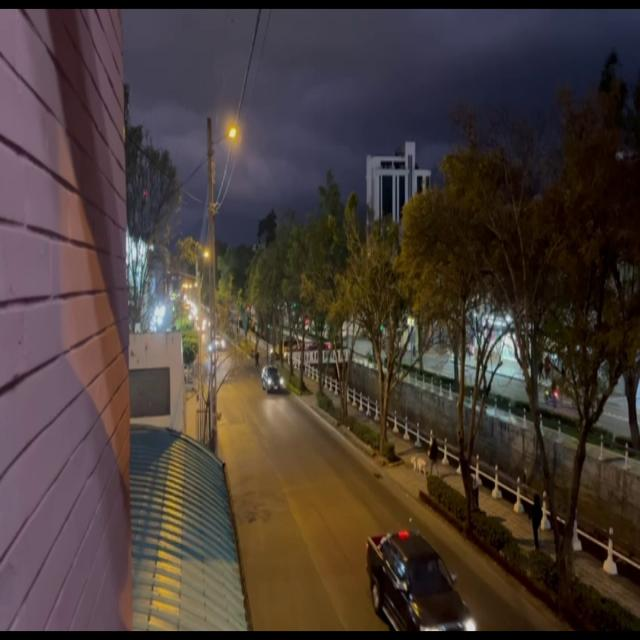CMT: (370, 533, 477, 637)
SUV: (263, 367, 285, 394)
